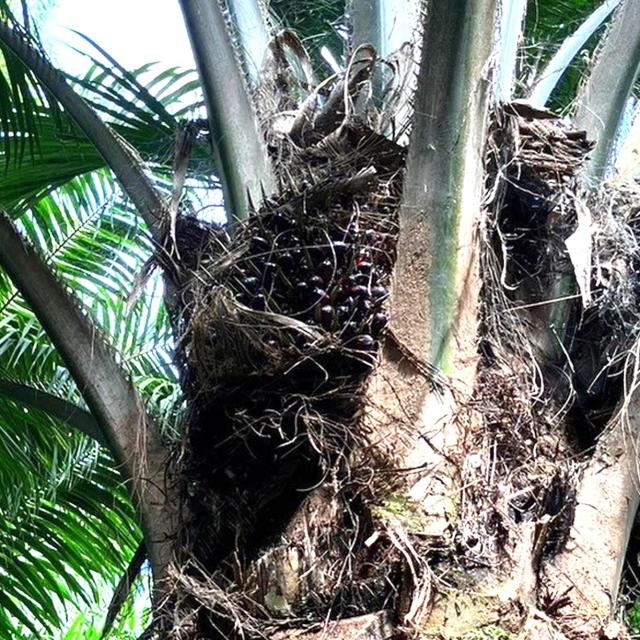ripe: (175, 155, 418, 451)
